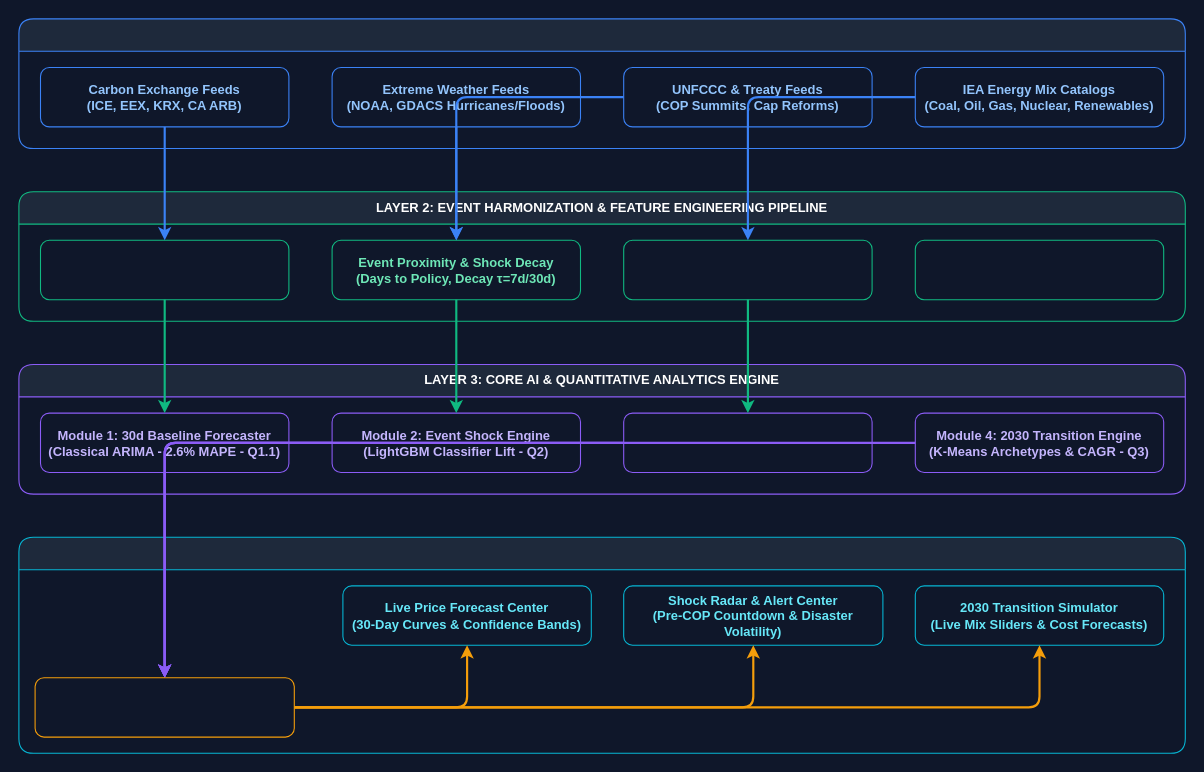
Some shapes in this 1204 by 772 pixel diagram are drawn without their labels. The shapes that lost their labels are listed below. From the top down, each one's box as (x1, y1, x2, y2) in pixels, then its label:
(18, 18, 1185, 148): LAYER 1: REAL-TIME INGESTION ENGINE
(39, 239, 289, 300): Trading Calendar Smoothing (Weekend/Holiday Roll-Forward)
(623, 239, 872, 300): Stoichiometric Chemistry (Combustion Index & Fossil-GDP)
(914, 239, 1164, 300): Jurisdiction Alignment (EU, California, RGGI, UK, China)
(623, 412, 872, 473): Module 3: Stoichiometric Simulator (Random Forest R²=0.945 - Q1.2)
(18, 536, 1185, 753): LAYER 4: ENTERPRISE DELIVERY & INTERACTIVE DASHBOARD
(34, 677, 294, 737): Enterprise API Gateway (REST, WebSockets, Bloomberg Connector)
